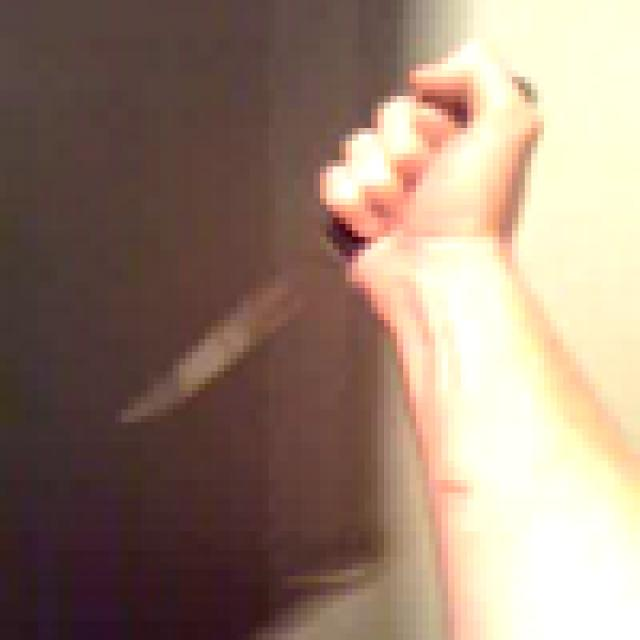Knife: (96, 38, 512, 436)
